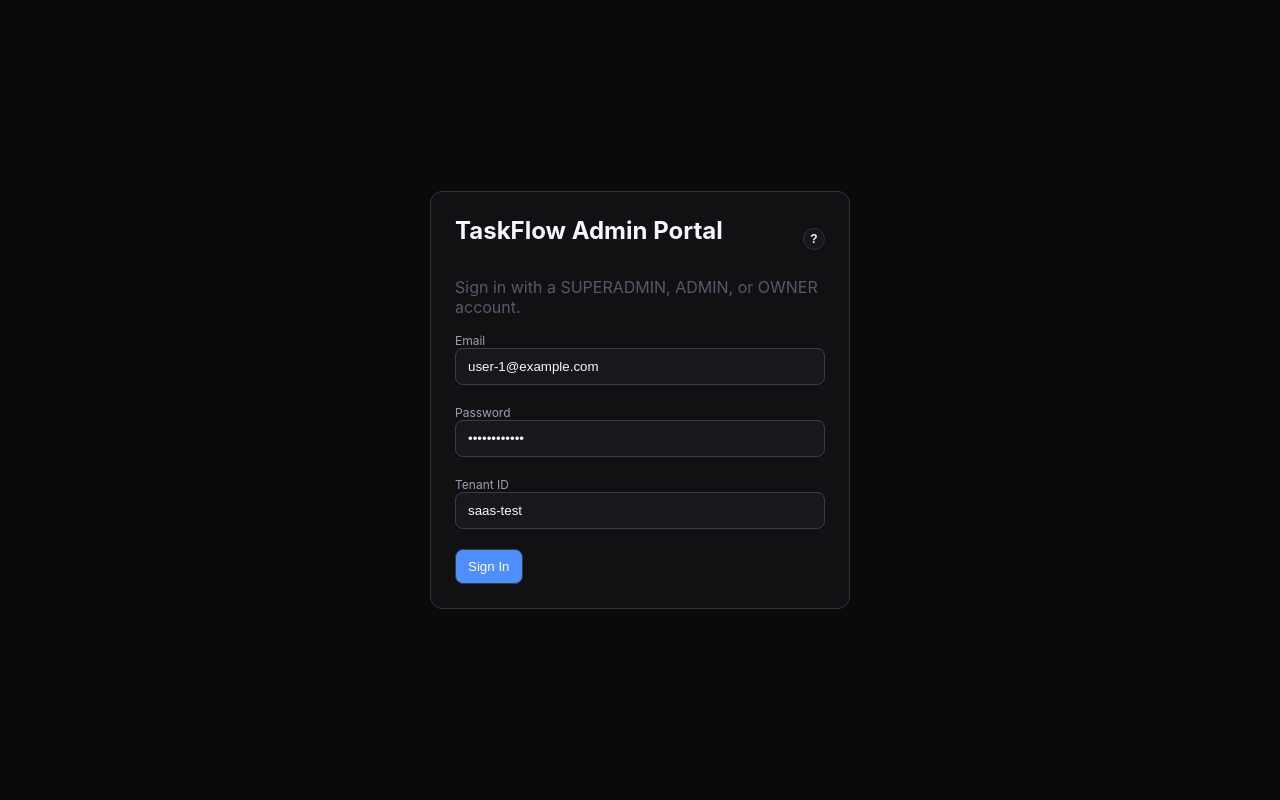
Test: Admin UI behavior › shows tenants as first module for non-superadmin owners
Click the button "Sign In": x=489, y=566 [455,549,522,584]
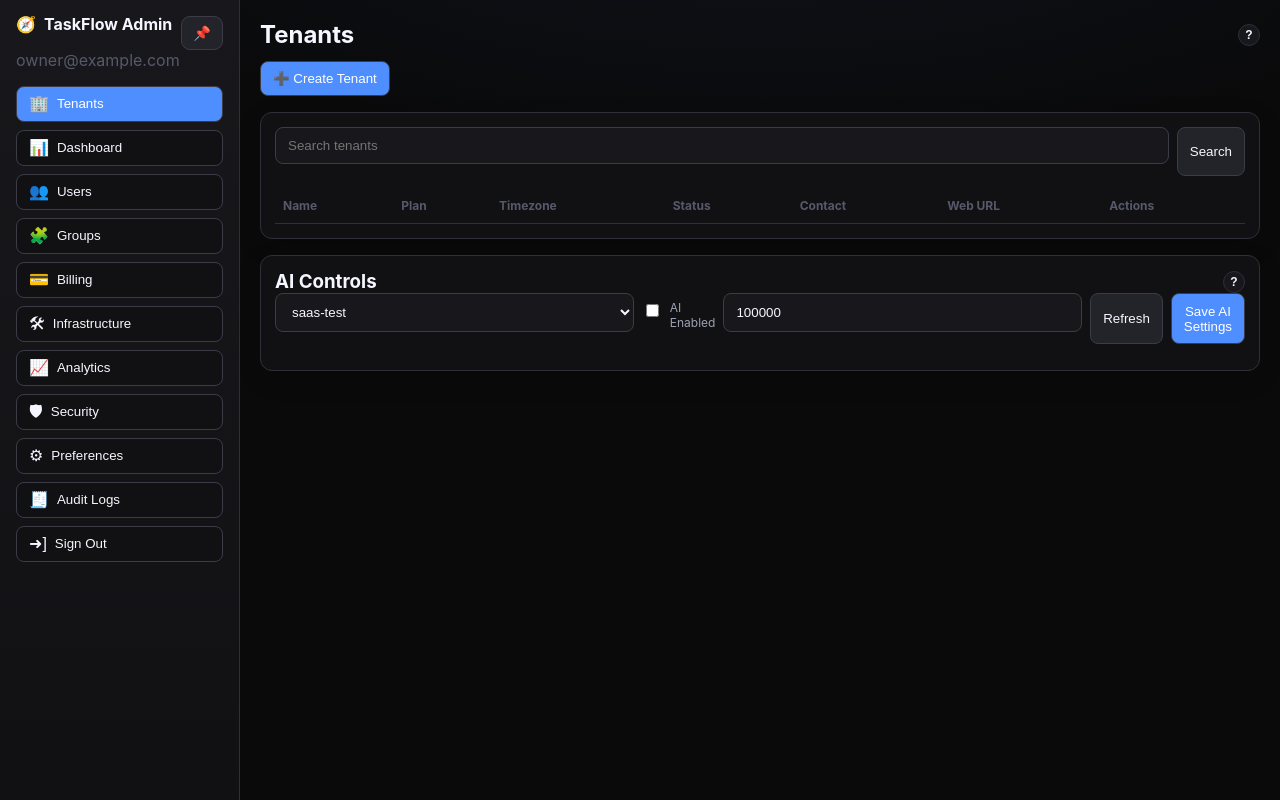
Check: the button "🏢 Tenants" is shown, box [16,86,223,122]
